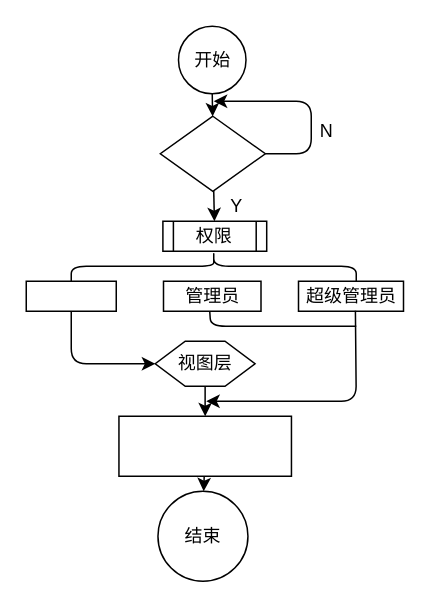
Some shapes in this 431 by 608 pixel diagram are drawn without their labels. The shapes that lost their labels are listed below. From the top down, each one's centre as x and y in pixels, then its label:
[212,153]: 登录
[70,295]: 用户
[204,445]: 查询结果
